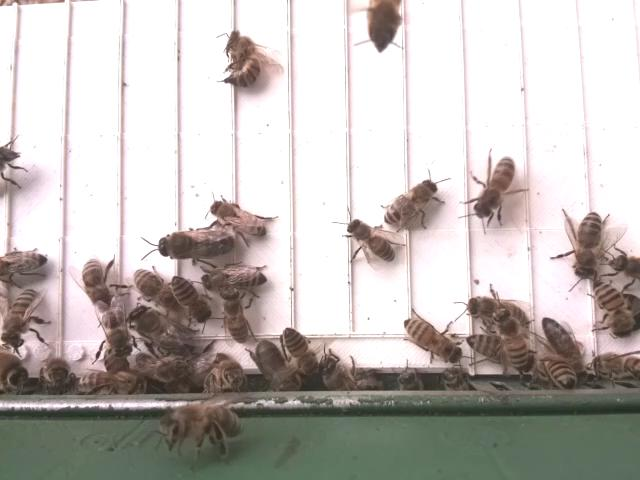Drone: (126, 304, 201, 361), (247, 341, 306, 396), (150, 228, 237, 265)
Worker: (152, 397, 251, 455), (579, 276, 639, 341), (399, 314, 466, 368), (469, 152, 519, 221), (461, 288, 532, 336), (381, 175, 439, 231), (0, 286, 45, 355), (75, 361, 156, 399), (491, 306, 536, 374), (570, 204, 606, 285), (208, 198, 271, 242), (345, 217, 398, 266), (227, 29, 265, 95), (276, 326, 322, 377), (540, 315, 584, 368), (78, 256, 116, 314), (169, 274, 213, 324), (132, 267, 181, 311), (219, 286, 253, 346), (202, 264, 268, 293), (199, 355, 248, 393)
